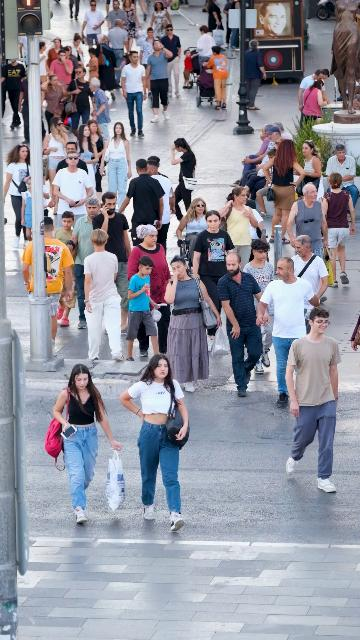person: (118, 353, 189, 532), (50, 363, 123, 523), (285, 306, 342, 492), (256, 257, 320, 408), (164, 255, 222, 392), (21, 216, 74, 347), (217, 252, 263, 397), (127, 225, 172, 357), (83, 228, 126, 362), (92, 192, 131, 335), (192, 210, 236, 336), (66, 198, 102, 329), (242, 238, 275, 374), (263, 139, 306, 242), (116, 159, 165, 247), (321, 172, 356, 288), (235, 125, 285, 204), (291, 234, 329, 334), (125, 256, 161, 361), (286, 182, 329, 262), (52, 151, 94, 230), (219, 186, 258, 269), (99, 122, 132, 211), (4, 144, 31, 248), (231, 124, 272, 187), (43, 117, 69, 214), (147, 160, 175, 249), (119, 51, 147, 137), (145, 39, 173, 122), (176, 198, 208, 268), (326, 143, 359, 209), (170, 137, 196, 220), (67, 66, 94, 140), (49, 142, 88, 188), (42, 74, 71, 135), (297, 67, 330, 118), (107, 19, 128, 97), (243, 39, 266, 110), (255, 148, 278, 218), (87, 120, 109, 193), (160, 24, 182, 97), (296, 140, 323, 199), (95, 34, 117, 100), (77, 124, 97, 195), (89, 77, 111, 141), (206, 46, 228, 110), (301, 79, 330, 125), (50, 49, 76, 91), (120, 0, 141, 52), (53, 211, 76, 256), (46, 38, 71, 75), (150, 1, 173, 40), (135, 28, 155, 72), (196, 25, 214, 69), (204, 0, 224, 32), (106, 0, 127, 30), (71, 33, 88, 69), (181, 49, 193, 88), (86, 48, 100, 81), (39, 41, 48, 82), (272, 122, 292, 140), (139, 0, 148, 23)
